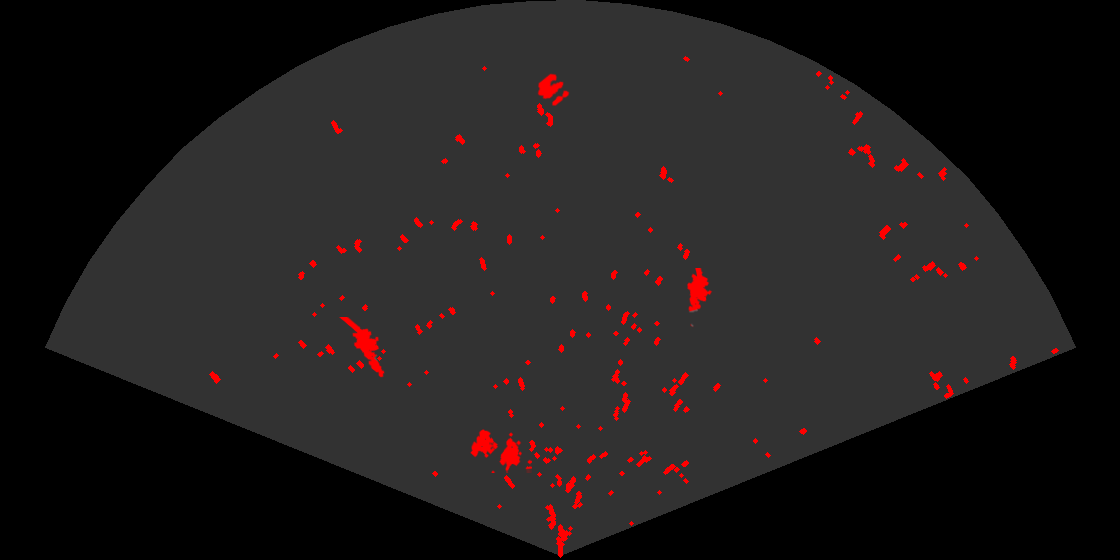ball: (536, 72, 571, 108)
cage: (469, 428, 532, 473)
frogman: (339, 317, 386, 379), (685, 268, 714, 329)
